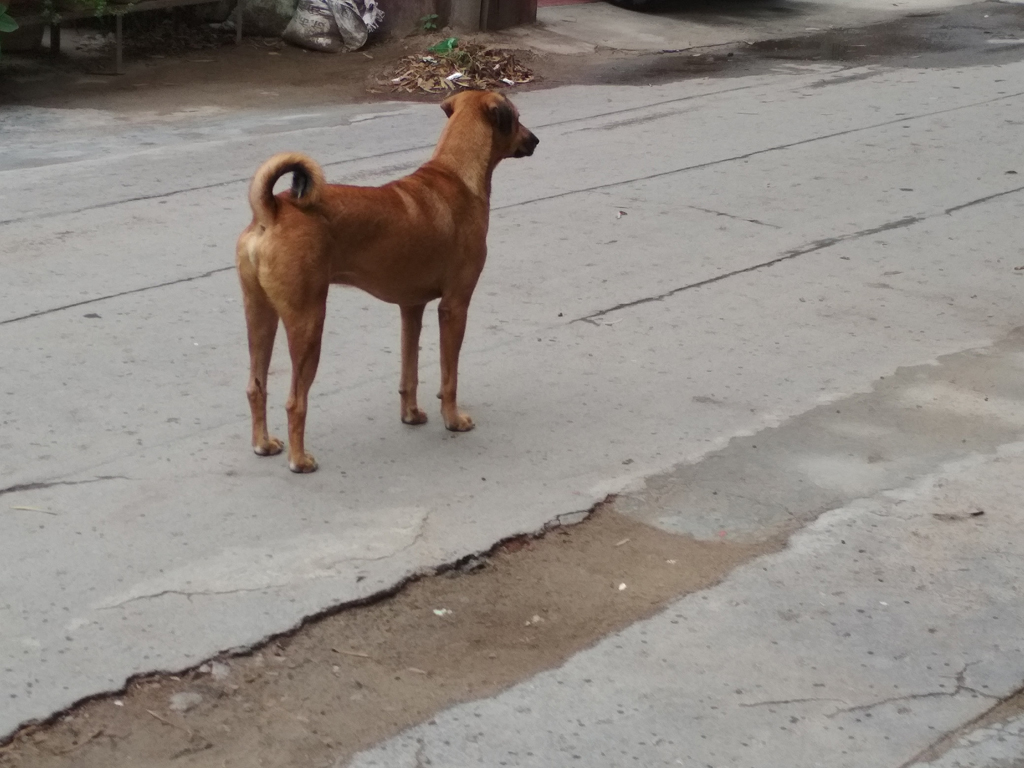dog: (236, 91, 541, 473)
